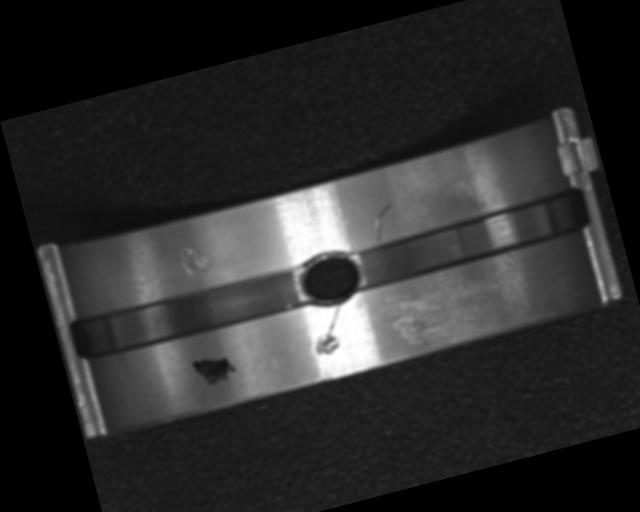blot: (190, 350, 238, 388)
bruise: (174, 237, 213, 280), (309, 329, 344, 357)
gap: (350, 185, 592, 292), (69, 259, 311, 366)
hole: (293, 243, 368, 315)
nick: (367, 202, 401, 242), (318, 302, 349, 338)
scratch: (384, 264, 511, 348)
